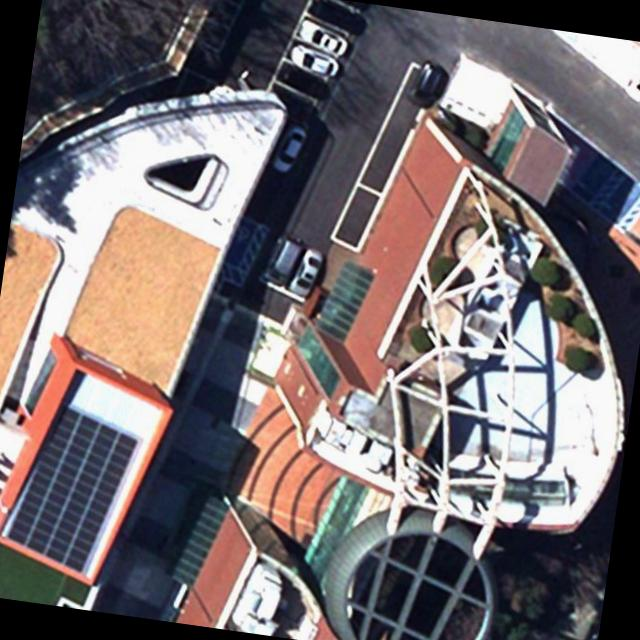solar: (0, 395, 145, 582)
